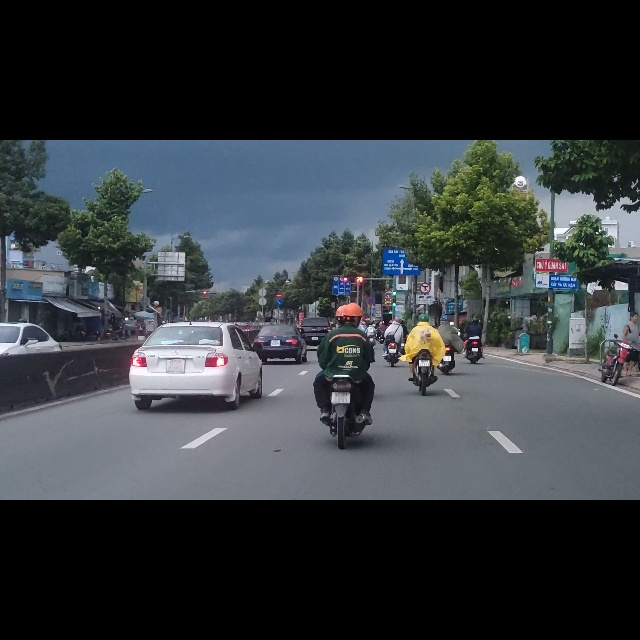bien_hieu_lenh: (332, 251, 351, 276), (419, 254, 431, 274), (276, 271, 283, 283), (276, 284, 282, 295)
